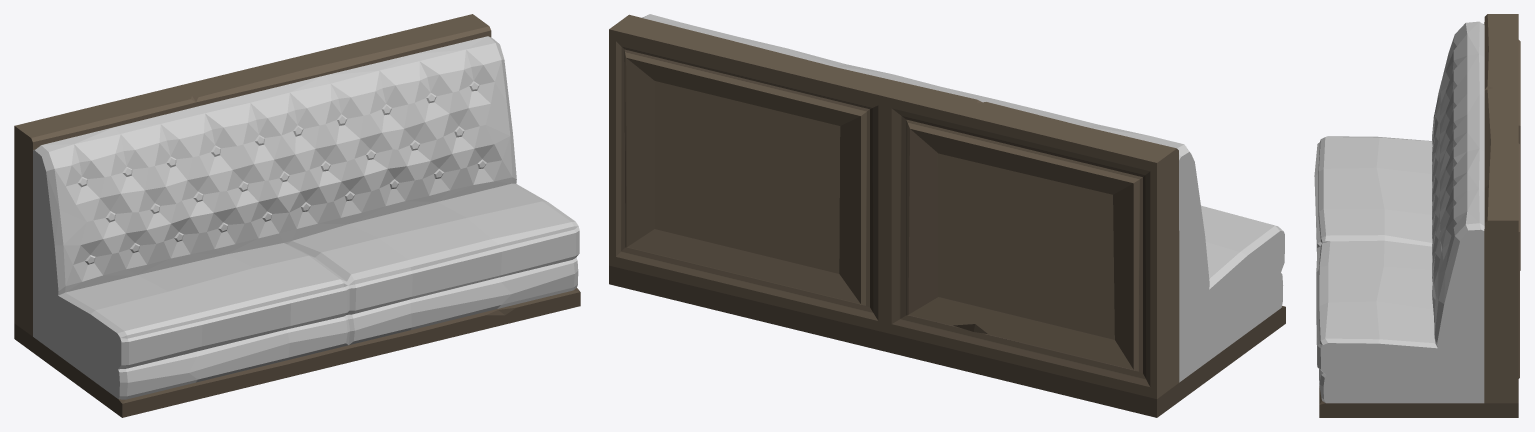
Rendered from SM_Prop_Sofa_01_Straight_01.fbx.
3 renders of one model, left to right at view 1: azimuth 30°, elevation 25°; view 2: azimuth 150°, elevation 25°; view 3: azimuth 270°, elevation 25°, orthographic. The views are drawn at different scales.
Parts seen in each view (by area): view 1: SM_Prop_Sofa_01_Straight_01; view 2: SM_Prop_Sofa_01_Straight_01; view 3: SM_Prop_Sofa_01_Straight_01.
Part boxes in pixels (left/top/right/bottom): SM_Prop_Sofa_01_Straight_01: left=14, top=14, right=580, bottom=417; SM_Prop_Sofa_01_Straight_01: left=609, top=14, right=1285, bottom=417; SM_Prop_Sofa_01_Straight_01: left=1314, top=14, right=1520, bottom=417.
Bounding box in the file's own units: 250 × 111 × 105.
